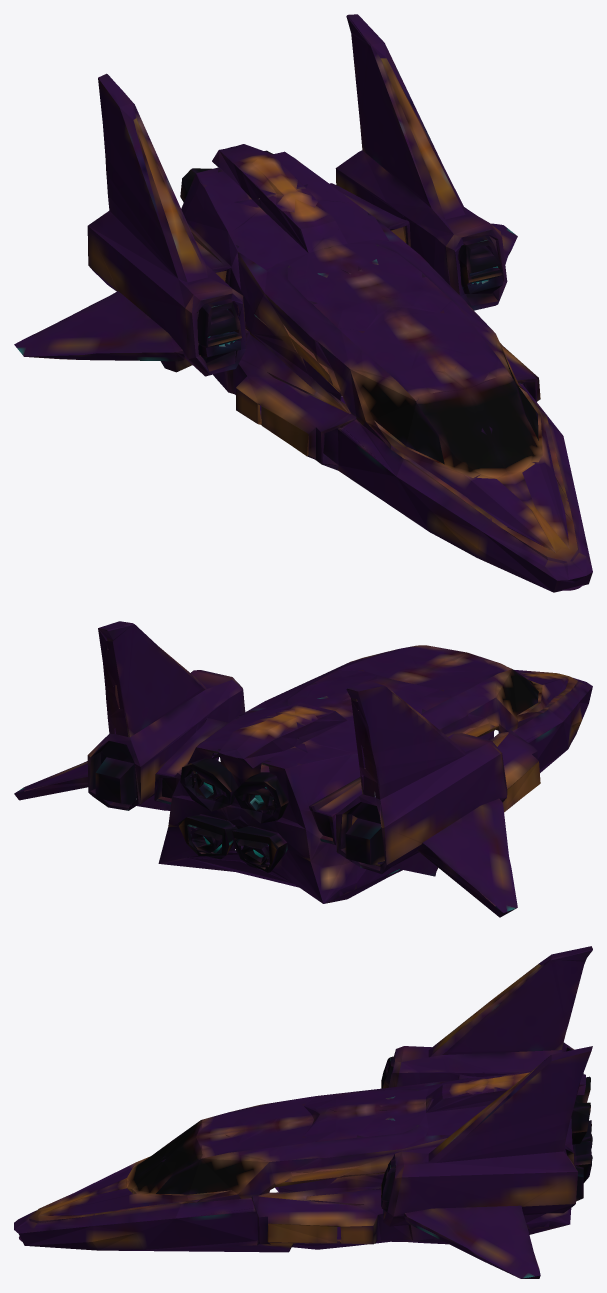
The picture shows the model from 3 angles, top to bottom: view 1: azimuth 30°, elevation 25°; view 2: azimuth 150°, elevation 25°; view 3: azimuth 270°, elevation 25°; orthographic projection. The views are drawn at different scales.
Parts seen in each view (by area): view 1: world; view 2: world; view 3: world.
Boxes of the visible parts, <box> form: world: <box>14,14,592,592</box>; world: <box>14,621,592,917</box>; world: <box>14,946,592,1278</box>.
Bounding box in the file's own units: 0.8134 × 0.46 × 1.
1 material, 1 textured.
